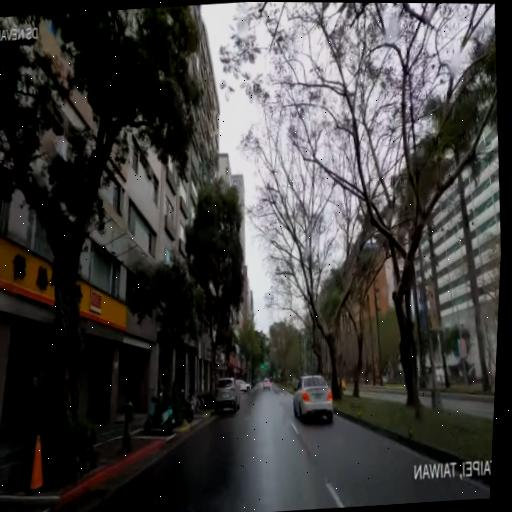Car: (287, 368, 342, 427), (206, 370, 247, 424), (230, 369, 254, 402), (260, 370, 274, 395)
